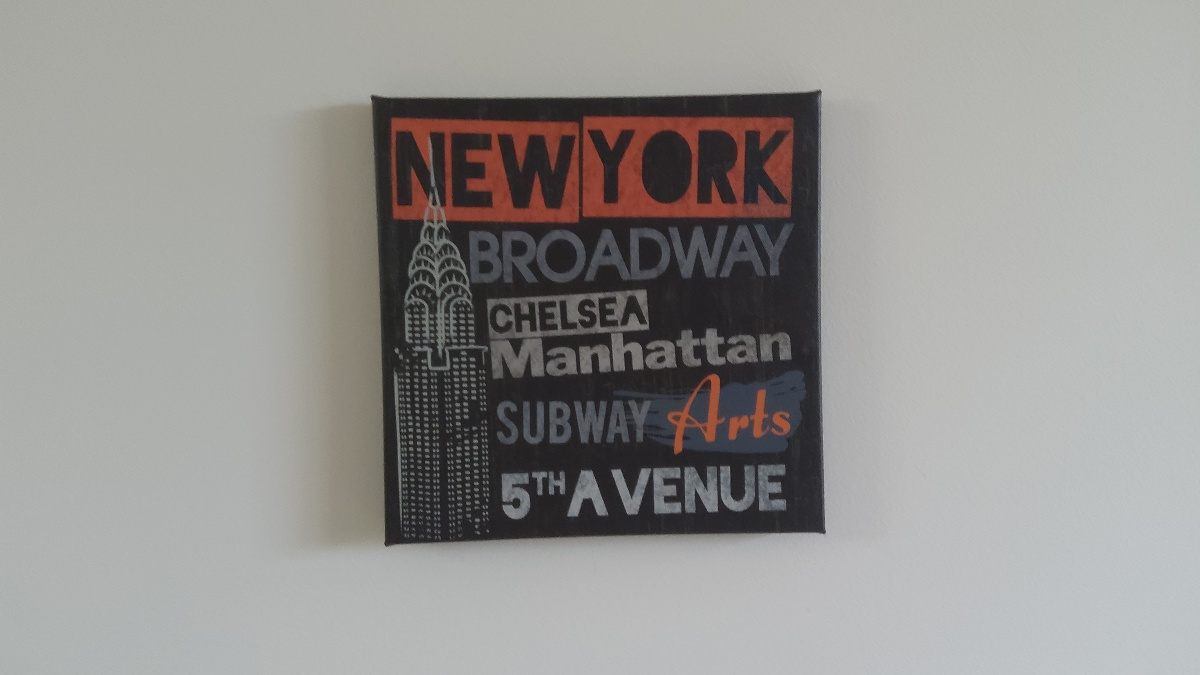poster: (365, 83, 831, 548)
